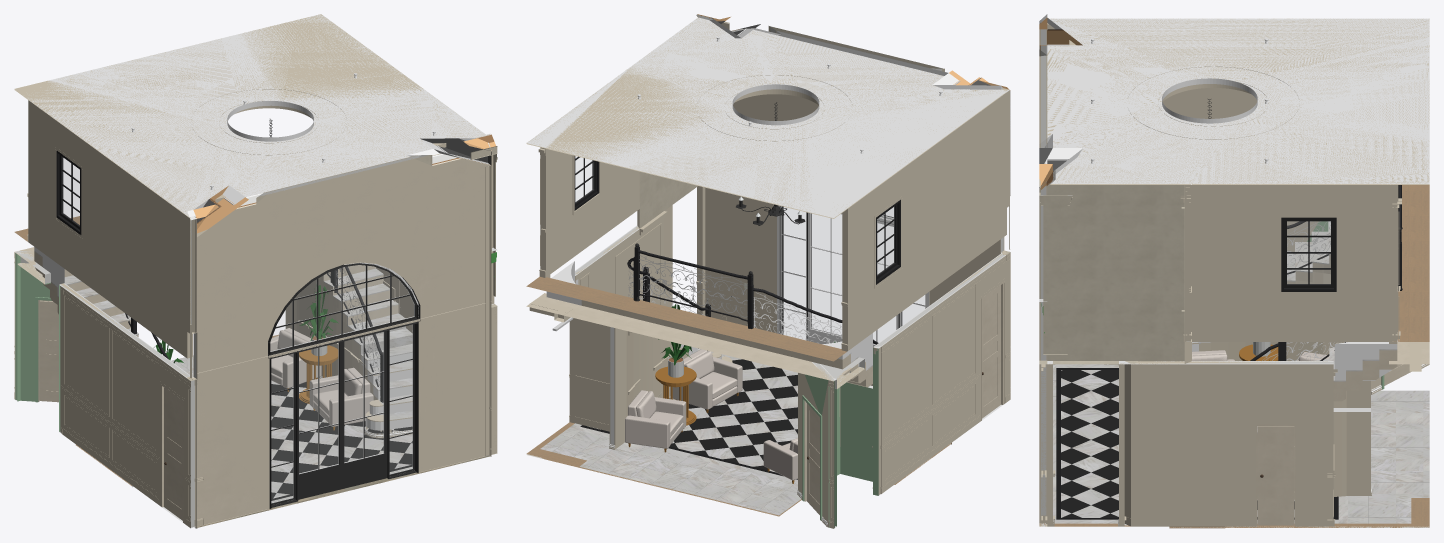
File: entry-7019ece25410.glb
3 views of the same model, side by side, from view 1: azimuth 30°, elevation 25°; view 2: azimuth 150°, elevation 25°; view 3: azimuth 270°, elevation 25° (orthographic). The views are drawn at different scales.
Visible parts, largest first — view 1: entry-9d91b47435c6fb33, entry-4edf3a9420c06709, entry-e8793759323e04f0, entry-698abdfdc6fb970d, entry-9ca48b730e5de4b2, entry-746250f96522f643, entry-85f0fd939e0fcc78, entry-8d5f500af8e4c699, entry-785988ccf932ddd5, entry-c4ac463b6a960119, entry-969fb0f33943ba89, entry-a5eabba2ad6474eb (+18 smaller); view 2: entry-9d91b47435c6fb33, entry-746250f96522f643, entry-e8793759323e04f0, entry-85f0fd939e0fcc78, entry-2575515a05775d9e, entry-d5a4a1b5d3594c04, entry-698abdfdc6fb970d, entry-ba376bd68a22f7f3, entry-c4ac463b6a960119, entry-c51ecd664a3b22a3, entry-8b5649904563319a, entry-6a051330000fbca1 (+27 smaller); view 3: entry-9d91b47435c6fb33, entry-6a051330000fbca1, entry-c51ecd664a3b22a3, entry-e8793759323e04f0, entry-62353aa10fc57f23, entry-c4ac463b6a960119, entry-ba376bd68a22f7f3, entry-2575515a05775d9e, entry-20932135983111ad, entry-489e9ad801b4b62e, entry-80d276f58a4dc5cb, entry-224035c89a69c041 (+20 smaller).
Part boxes in pixels (x1,y1,x2,y2): entry-9d91b47435c6fb33: [14, 14, 485, 218]; entry-4edf3a9420c06709: [195, 150, 491, 372]; entry-e8793759323e04f0: [14, 14, 483, 217]; entry-698abdfdc6fb970d: [269, 322, 418, 508]; entry-9ca48b730e5de4b2: [195, 302, 490, 526]; entry-746250f96522f643: [28, 100, 192, 358]; entry-85f0fd939e0fcc78: [60, 283, 192, 525]; entry-8d5f500af8e4c699: [268, 262, 420, 358]; entry-785988ccf932ddd5: [196, 150, 491, 373]; entry-c4ac463b6a960119: [271, 379, 412, 498]; entry-969fb0f33943ba89: [196, 302, 490, 526]; entry-a5eabba2ad6474eb: [14, 251, 50, 401]; entry-9d91b47435c6fb33: [526, 17, 1008, 218]; entry-746250f96522f643: [842, 92, 1006, 350]; entry-e8793759323e04f0: [528, 18, 1008, 210]; entry-85f0fd939e0fcc78: [873, 253, 1006, 494]; entry-2575515a05775d9e: [526, 275, 851, 381]; entry-d5a4a1b5d3594c04: [706, 188, 1007, 389]; entry-698abdfdc6fb970d: [777, 205, 929, 346]; entry-ba376bd68a22f7f3: [540, 428, 800, 515]; entry-c4ac463b6a960119: [586, 354, 797, 472]; entry-c51ecd664a3b22a3: [540, 147, 639, 277]; entry-8b5649904563319a: [570, 281, 609, 431]; entry-6a051330000fbca1: [569, 219, 663, 414]; entry-9d91b47435c6fb33: [1041, 18, 1429, 184]; entry-6a051330000fbca1: [1131, 361, 1333, 526]; entry-c51ecd664a3b22a3: [1192, 184, 1398, 341]; entry-e8793759323e04f0: [1042, 14, 1429, 183]; entry-62353aa10fc57f23: [1047, 184, 1191, 364]; entry-c4ac463b6a960119: [1061, 370, 1333, 517]; entry-ba376bd68a22f7f3: [1348, 390, 1429, 523]; entry-2575515a05775d9e: [1389, 185, 1429, 364]; entry-20932135983111ad: [1281, 217, 1336, 291]; entry-489e9ad801b4b62e: [1043, 195, 1067, 354]; entry-80d276f58a4dc5cb: [1257, 426, 1294, 525]; entry-224035c89a69c041: [1346, 380, 1370, 495].
Bounding box in the file's own units: 6.54 × 6.44 × 6.51.
Materials: 46 (9 with a texture image).
